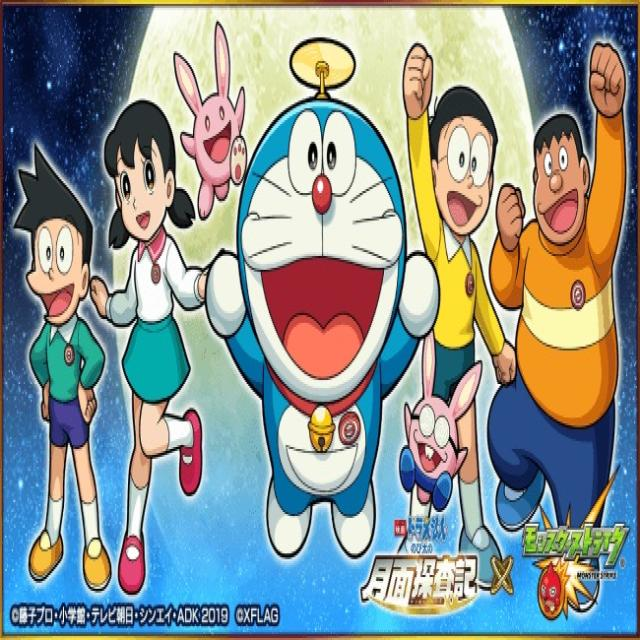doraemon: (218, 69, 427, 480)
jaian: (502, 89, 614, 284)
nobita: (414, 69, 503, 297)
shizuka: (92, 75, 208, 313)
suneo: (5, 136, 109, 380)
